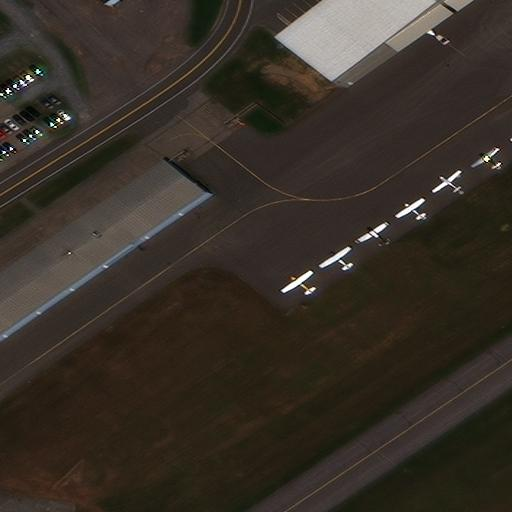Small Civil Transport: (353, 221, 387, 245), (317, 245, 350, 269), (279, 269, 311, 293), (469, 146, 499, 167), (430, 169, 459, 190), (394, 197, 422, 218)
